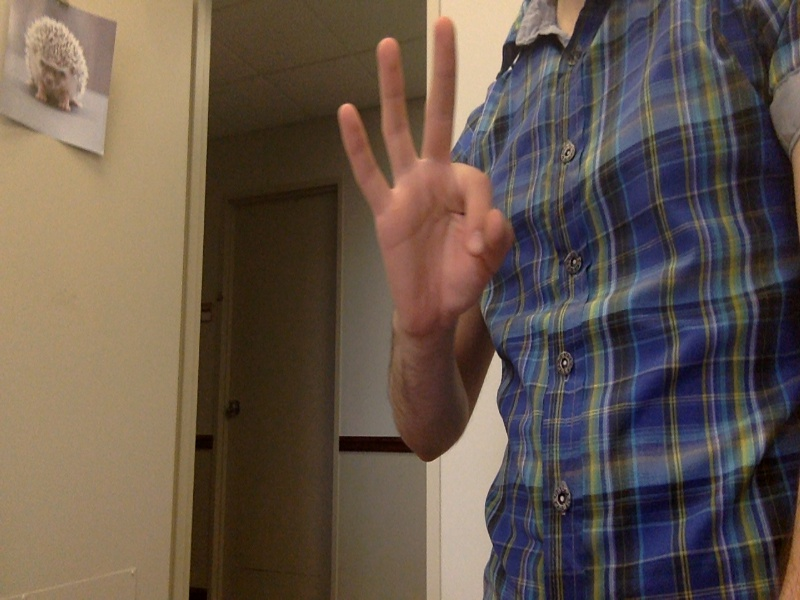3-hand: (336, 18, 512, 333)
